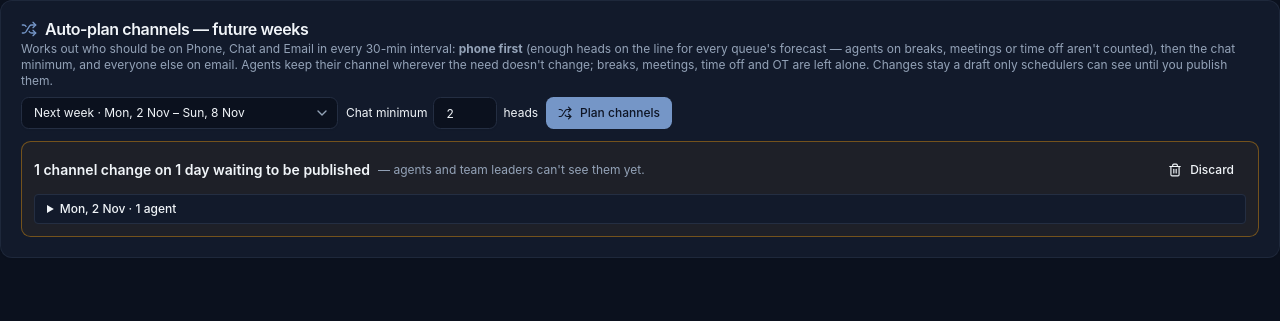
Test: auto-plan channels › can discard, and hides Publish from people who can't publish
The image size is (1280, 321).
Expected: the text "1 channel change on 1 day waiting to be published" is shown, [34,160,370,180]
Click the button "Discard" at (1201, 170), box [1156,154,1246,186]
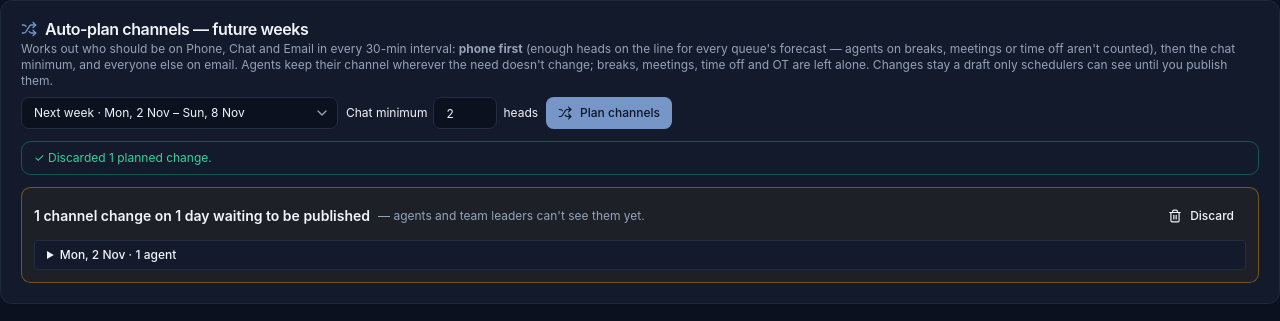
Expected: the text "✓ Discarded 1 planned change." is shown, [21,141,1259,175]
